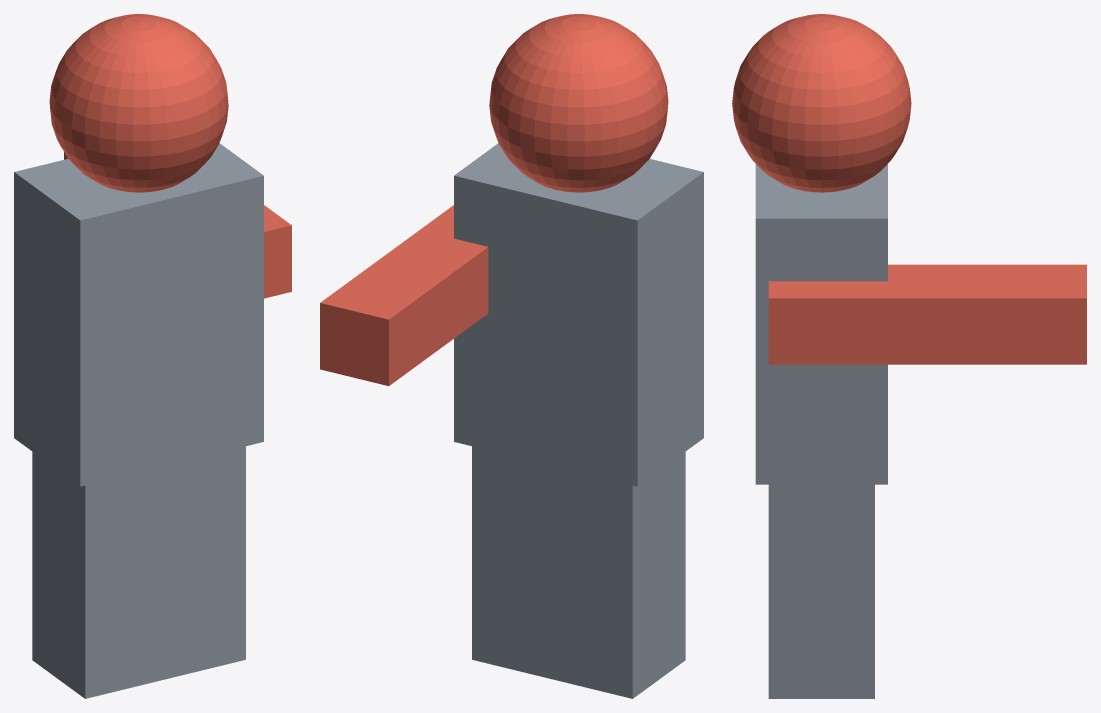
Rendered from SU_ZaslonAATeam_LOD0.glb.
The picture shows the model from 3 angles, left to right: view 1: azimuth 30°, elevation 25°; view 2: azimuth 150°, elevation 25°; view 3: azimuth 270°, elevation 25°; orthographic projection.
Visible parts, largest first — view 1: Head; view 2: Head; view 3: Head.
Boxes of the visible parts, x1,y1,x2,y2 form: Head: [14, 14, 291, 698]; Head: [320, 14, 703, 698]; Head: [732, 14, 1086, 698].
Bounding box in the file's own units: 61.75 × 172 × 87.
